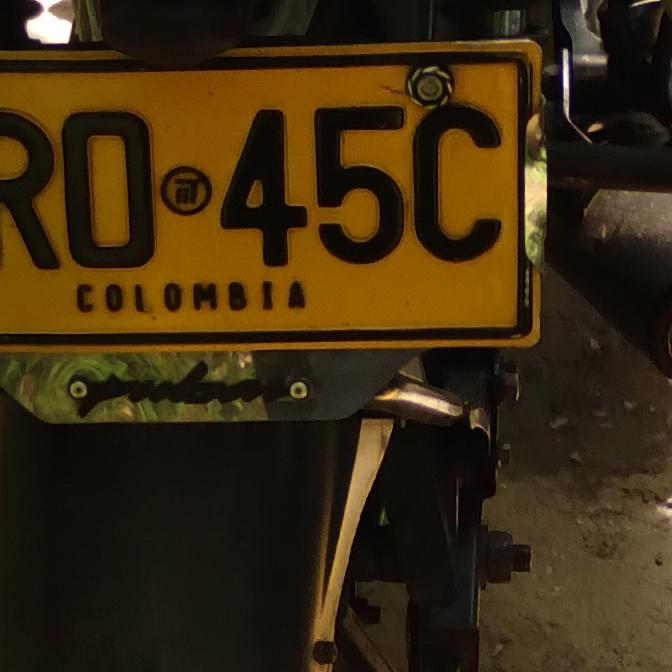plates: (0, 49, 542, 359)
